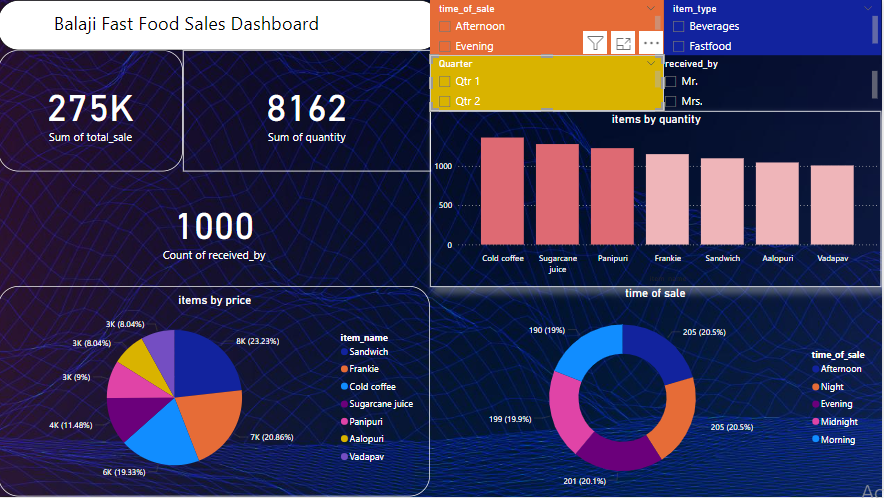

The dashboard page shown, as its layout file describes it:
{"tool":"powerbi","page":{"name":"Page 1","canvas":[1280,720],"ordinal":0},"visuals":[{"type":"pieChart","title":"items by price","fields":{"Category":["Balaji Fast Food Sales.item_name"],"Y":["Balaji Fast Food Sales.item_price"]},"box":[0,414.7,626.4,304.6],"z":0},{"type":"columnChart","title":"items by quantity","fields":{"Category":["Balaji Fast Food Sales.item_name"],"Y":["Balaji Fast Food Sales.quantity"]},"box":[626.4,160.2,653.6,254.6],"z":1000},{"type":"card","fields":{"Values":["Balaji Fast Food Sales.total_sale"]},"box":[0,72.3,267.9,175.7],"z":2000},{"type":"textbox","box":[0,0,640.7,72.9],"z":3000},{"type":"card","fields":{"Values":["Balaji Fast Food Sales.quantity"]},"box":[267.9,72.3,358.6,175.7],"z":4000},{"type":"donutChart","title":"time of sale","fields":{"Category":["Balaji Fast Food Sales.time_of_sale"],"Y":["Balaji Fast Food Sales.item_name"]},"box":[626,415,653,305],"z":5000},{"type":"card","fields":{"Values":["Balaji Fast Food Sales.received_by"]},"box":[0,247.4,626.4,167.3],"z":6000},{"type":"slicer","fields":{"Values":["Balaji Fast Food Sales.item_type"]},"box":[965.4,0,314.6,80.1],"z":7000},{"type":"slicer","fields":{"Values":["Balaji Fast Food Sales.time_of_sale"]},"box":[626.5,0,338.7,80.8],"z":8000},{"type":"slicer","fields":{"Values":["Balaji Fast Food Sales.received_by"]},"box":[953.9,80.1,326.1,80.1],"z":9000},{"type":"slicer","fields":{"Values":["Balaji Fast Food Sales.date.Variation.Date Hierarchy.Quarter"]},"box":[626.1,79.7,339.1,81.2],"z":9001}]}

Visuals, with their boxes in screenshot pixels (x1, y1, x2, y2):
"items by price" pieChart: crop(2, 282, 429, 490)
"items by quantity" columnChart: crop(429, 109, 874, 283)
card - Balaji Fast Food Sales.total_sale: crop(2, 49, 185, 169)
textbox: crop(2, 0, 439, 50)
card - Balaji Fast Food Sales.quantity: crop(185, 49, 429, 169)
"time of sale" donutChart: crop(429, 283, 873, 490)
card - Balaji Fast Food Sales.received_by: crop(2, 168, 429, 282)
slicer - Balaji Fast Food Sales.item_type: crop(660, 0, 874, 55)
slicer - Balaji Fast Food Sales.time_of_sale: crop(429, 0, 660, 55)
slicer - Balaji Fast Food Sales.received_by: crop(652, 55, 874, 109)
slicer - Balaji Fast Food Sales.date.Variation.Date Hierarchy.Quarter: crop(429, 54, 660, 110)
